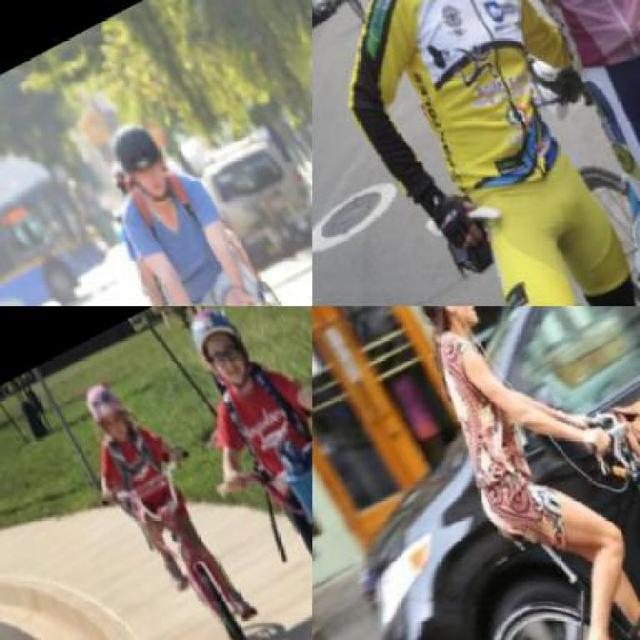With Helmet: (85, 101, 188, 216), (174, 306, 269, 402), (72, 372, 145, 456), (282, 20, 310, 140)
Without Helmet: (394, 306, 488, 345)
